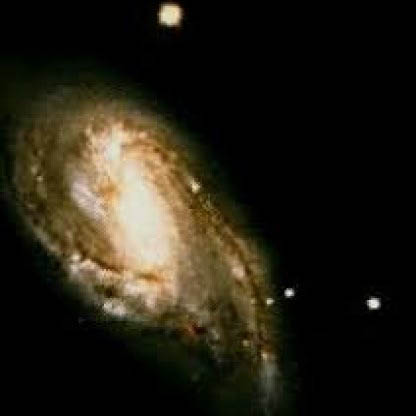Messier 66: (11, 2, 320, 403)
